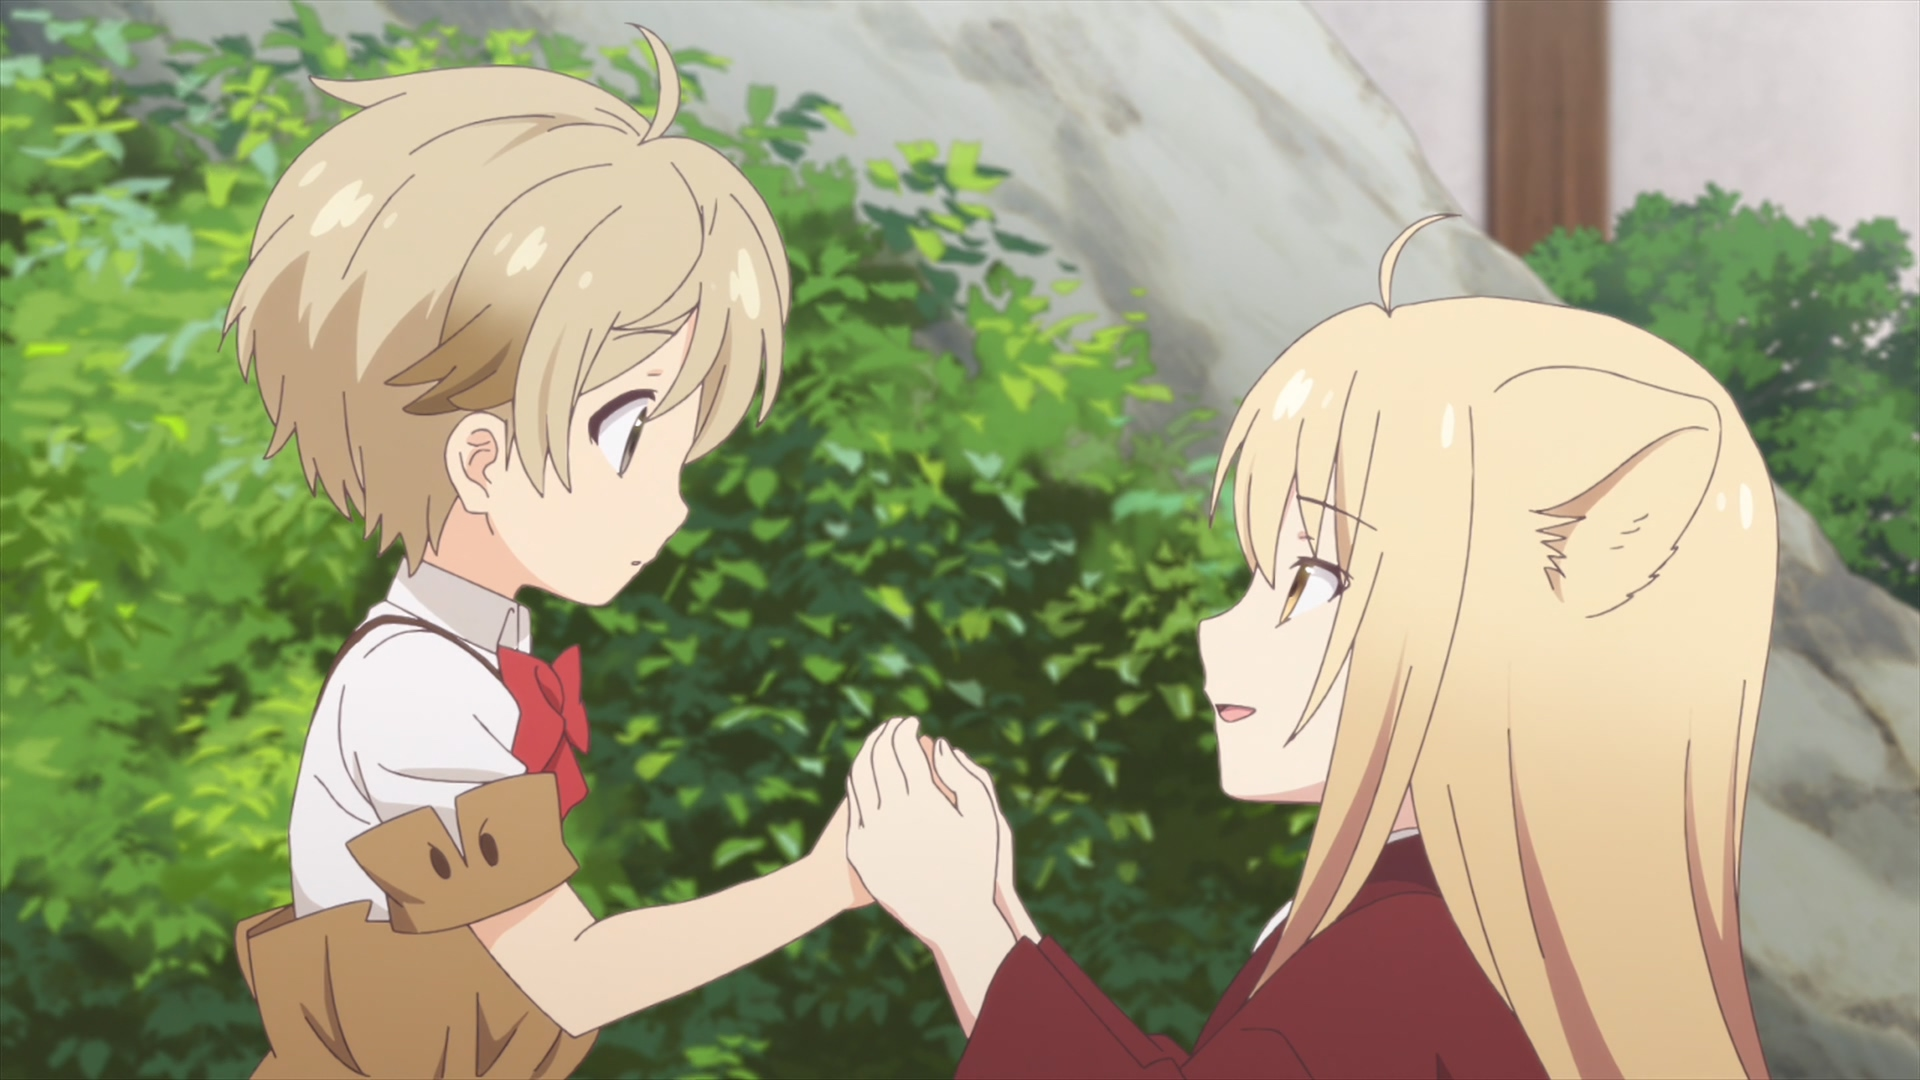其他: (216, 22, 956, 1080)
柚: (847, 214, 1779, 1080)
